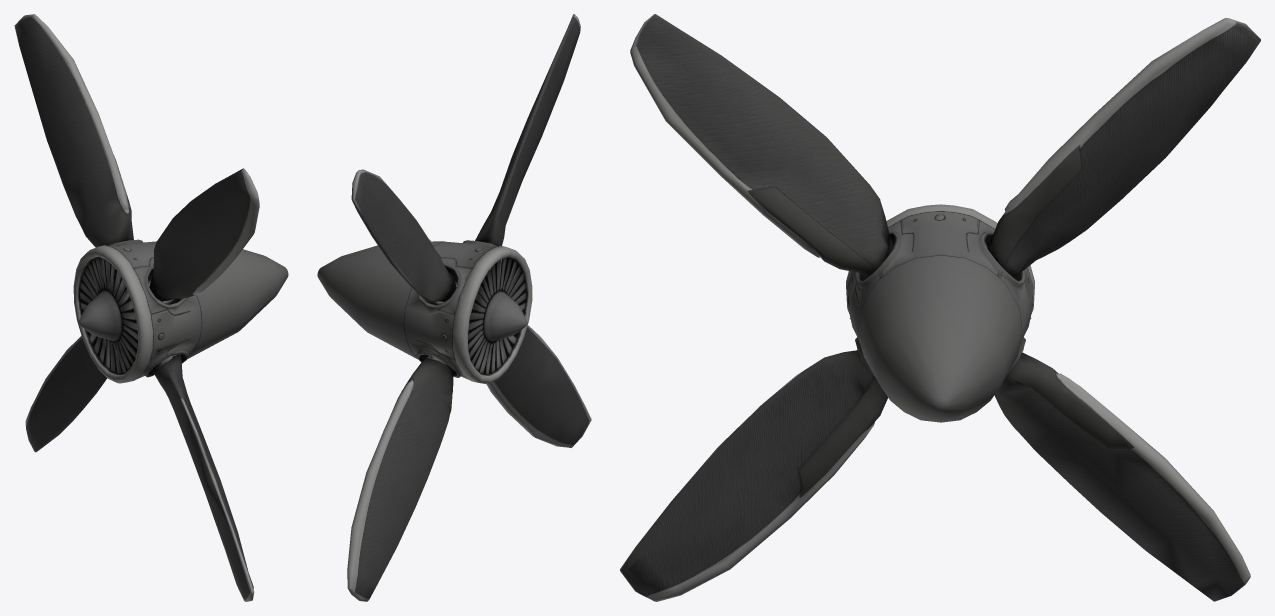
File: prop4_remesh.glb
3 views of the same model, side by side, from view 1: azimuth 30°, elevation 25°; view 2: azimuth 150°, elevation 25°; view 3: azimuth 270°, elevation 25° (orthographic). The views are drawn at different scales.
Parts seen in each view (by area): view 1: tripo_node_b25ca8df-34a6-4df5-8bae-29833; view 2: tripo_node_b25ca8df-34a6-4df5-8bae-29833; view 3: tripo_node_b25ca8df-34a6-4df5-8bae-29833.
Part boxes in pixels (<box>): tripo_node_b25ca8df-34a6-4df5-8bae-29833: <box>14,14,288,601</box>; tripo_node_b25ca8df-34a6-4df5-8bae-29833: <box>317,14,591,601</box>; tripo_node_b25ca8df-34a6-4df5-8bae-29833: <box>620,14,1260,601</box>.
Size of the model in its own units: 0.499 by 1 by 0.9883.
Materials: 1 (1 with a texture image).
